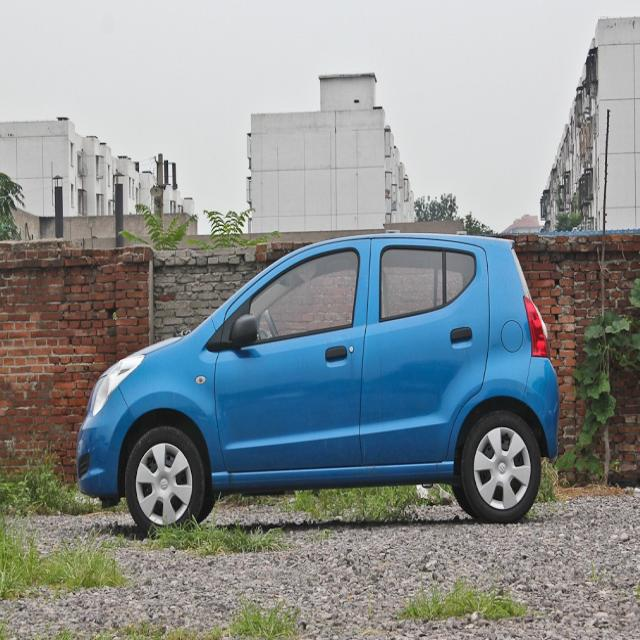back_left_side_light: (522, 292, 554, 360)
door: (368, 240, 494, 471)
front_bumper: (75, 384, 135, 502)
front_left_side_door: (213, 234, 373, 478)
front_left_side_light: (90, 351, 147, 420)
front_left_side_mirror: (229, 312, 259, 348)
rear_bumper: (525, 347, 563, 458)
wheel: (462, 411, 540, 525), (126, 425, 204, 538)
